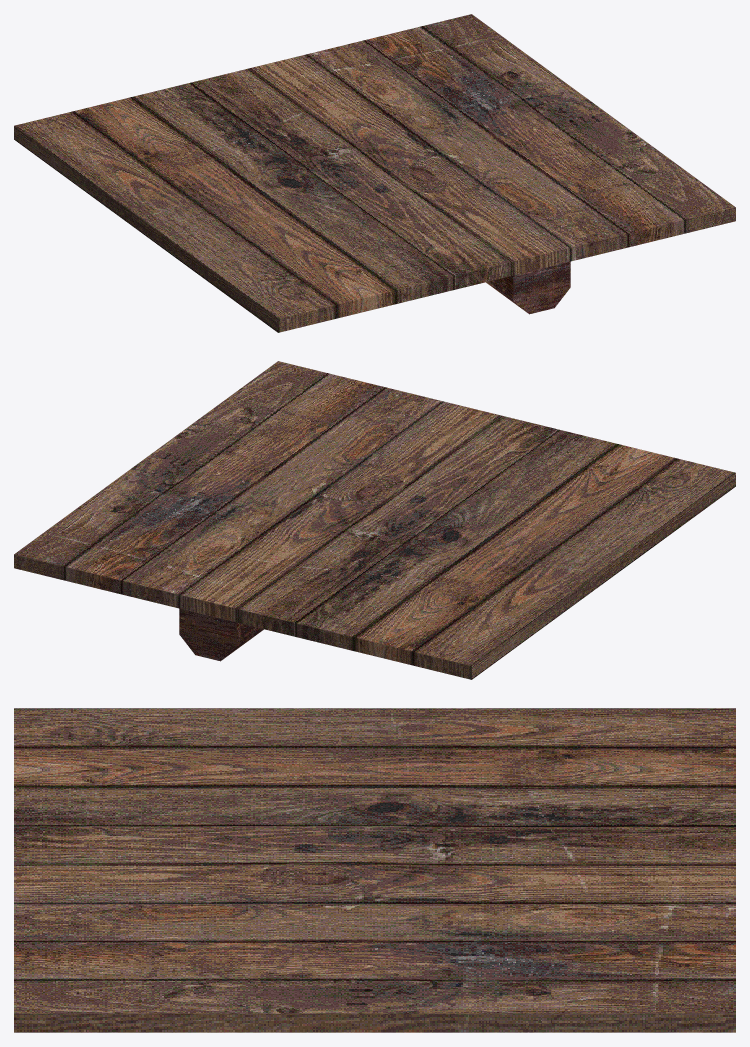
The model's file is ceiling-beamNE.glb.
The picture shows the model from 3 angles, top to bottom: view 1: azimuth 30°, elevation 25°; view 2: azimuth 150°, elevation 25°; view 3: azimuth 270°, elevation 25°; orthographic projection. The views are drawn at different scales.
Parts seen in each view (by area): view 1: ceiling-beamNE.001; view 2: ceiling-beamNE.001; view 3: ceiling-beamNE.001.
Part boxes in pixels (<box>): ceiling-beamNE.001: <box>14,14,735,332</box>; ceiling-beamNE.001: <box>14,361,735,679</box>; ceiling-beamNE.001: <box>14,708,735,1032</box>.
Size of the model in its own units: 1.74 by 0.2046 by 1.73.
2 materials, 2 textured.
